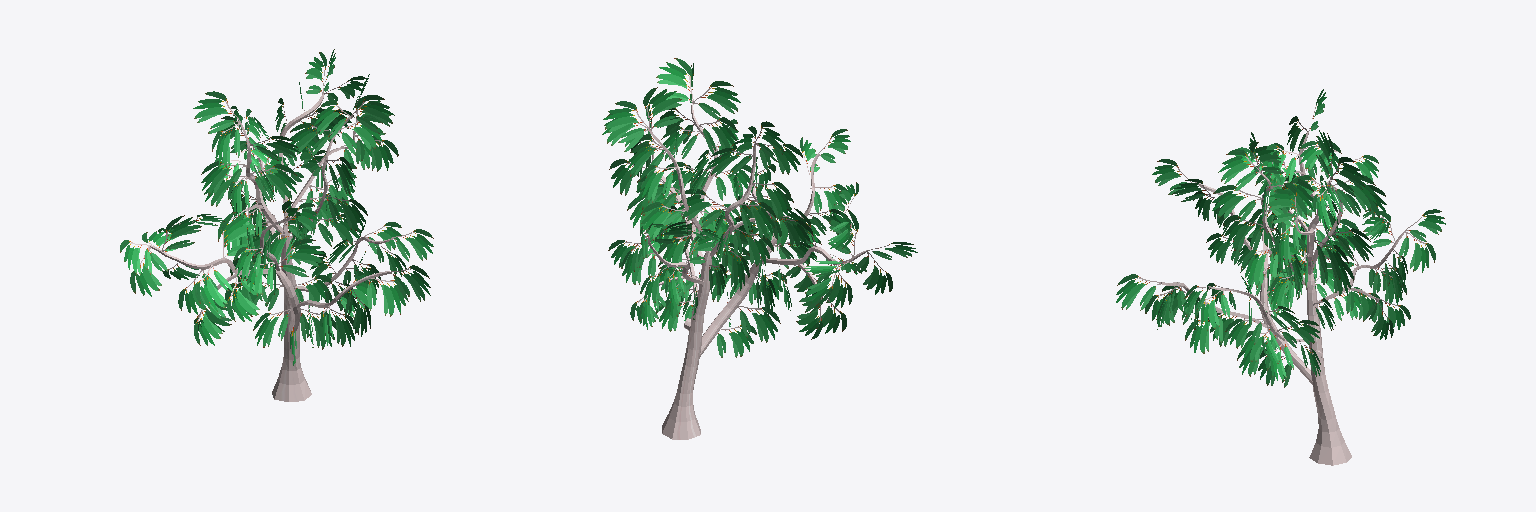
3 renders of one model, left to right at view 1: azimuth 30°, elevation 25°; view 2: azimuth 150°, elevation 25°; view 3: azimuth 270°, elevation 25°, orthographic.
Parts seen in each view (by area): view 1: Main Tree_02, Tree_02 Branches B7 pPlane18, Tree_02 Branches B9 pPlane33, Tree_02 Branches B10 pPlane102, Tree_02 Branches B10 pPlane43, Tree_02 Branches B7 pPlane83, Tree_02 Branches B10 pPlane58, Tree_02 Branches B10 pPlane19, Tree_02 B4 Branches pPlane41, Tree_02 Branches B10 pPlane47, Tree_02 Branches B8 pPlane7, Tree_02 Branches B9 pPlane3 (+12 smaller); view 2: Main Tree_02, Tree_02 Main1, Tree_02 Branches B6 pPlane3, Tree_02 Branches B6 pPlane93, Tree_02 Branches B8 pPlane91, Tree_02 Branches B8 pPlane92, Tree_02 Branches pPlane49 B10, Tree_02 Branches B7 pPlane43, Tree_02 Branches B7 pPlane58, Tree_02 Branches B7 pPlane47, Tree_02 Branches B6 pPlane31, Tree_02 Branches B6 pPlane32 (+10 smaller); view 3: Main Tree_02, Tree_02 Branches B8 pPlane52, Tree_02 Branches B9 pPlane3, Tree_02 Branches B8 pPlane7, Tree_02 Branches B8 pPlane54, Tree_02 Branches B8 pPlane51, Tree_02 Main1, Tree_02 Branches B6 pPlane69, Tree_02 Branches B9 pPlane31, Tree_02 Branches B13 pPlane19, Tree_02 B4 Branches pPlane4, Tree_02 Branches B12 pPlane53 (+3 smaller).
Part boxes in pixels (bbox=[...]): Main Tree_02: bbox=[272, 229, 311, 401]; Tree_02 Branches B7 pPlane18: bbox=[193, 91, 240, 133]; Tree_02 Branches B9 pPlane33: bbox=[367, 278, 409, 316]; Tree_02 Branches B10 pPlane102: bbox=[278, 239, 324, 276]; Tree_02 Branches B10 pPlane43: bbox=[220, 212, 255, 258]; Tree_02 Branches B7 pPlane83: bbox=[250, 164, 296, 201]; Tree_02 Branches B10 pPlane58: bbox=[195, 265, 233, 311]; Tree_02 Branches B10 pPlane19: bbox=[130, 247, 167, 296]; Tree_02 B4 Branches pPlane41: bbox=[355, 135, 398, 171]; Tree_02 Branches B10 pPlane47: bbox=[226, 275, 262, 321]; Tree_02 Branches B8 pPlane7: bbox=[351, 95, 394, 133]; Tree_02 Branches B9 pPlane3: bbox=[389, 265, 430, 301]; Main Tree_02: bbox=[662, 251, 711, 439]; Tree_02 Main1: bbox=[700, 259, 762, 356]; Tree_02 Branches B6 pPlane3: bbox=[603, 101, 650, 142]; Tree_02 Branches B6 pPlane93: bbox=[643, 87, 681, 130]; Tree_02 Branches B8 pPlane91: bbox=[693, 81, 740, 120]; Tree_02 Branches B8 pPlane92: bbox=[656, 58, 693, 104]; Tree_02 Branches pPlane49 B10: bbox=[737, 306, 780, 342]; Tree_02 Branches B7 pPlane43: bbox=[678, 189, 726, 227]; Tree_02 Branches B7 pPlane58: bbox=[738, 202, 775, 239]; Tree_02 Branches B7 pPlane47: bbox=[733, 228, 773, 266]; Tree_02 Branches B6 pPlane31: bbox=[641, 202, 684, 239]; Tree_02 Branches B6 pPlane32: bbox=[639, 165, 677, 202]; Main Tree_02: bbox=[1306, 273, 1351, 465]; Tree_02 Branches B8 pPlane52: bbox=[1212, 185, 1261, 222]; Tree_02 Branches B9 pPlane3: bbox=[1116, 274, 1160, 310]; Tree_02 Branches B8 pPlane7: bbox=[1218, 149, 1260, 190]; Tree_02 Branches B8 pPlane54: bbox=[1241, 246, 1277, 287]; Tree_02 Branches B8 pPlane51: bbox=[1223, 215, 1263, 251]; Tree_02 Main1: bbox=[1260, 272, 1312, 384]; Tree_02 Branches B6 pPlane69: bbox=[1332, 175, 1376, 213]; Tree_02 Branches B9 pPlane31: bbox=[1185, 311, 1222, 353]; Tree_02 Branches B13 pPlane19: bbox=[1399, 231, 1435, 272]; Tree_02 B4 Branches pPlane4: bbox=[1268, 183, 1297, 223]; Tree_02 Branches B12 pPlane53: bbox=[1194, 290, 1229, 330].
Bounding box in the file's own units: 17.36 × 19.28 × 17.73.
Materials: 2 (2 with a texture image).